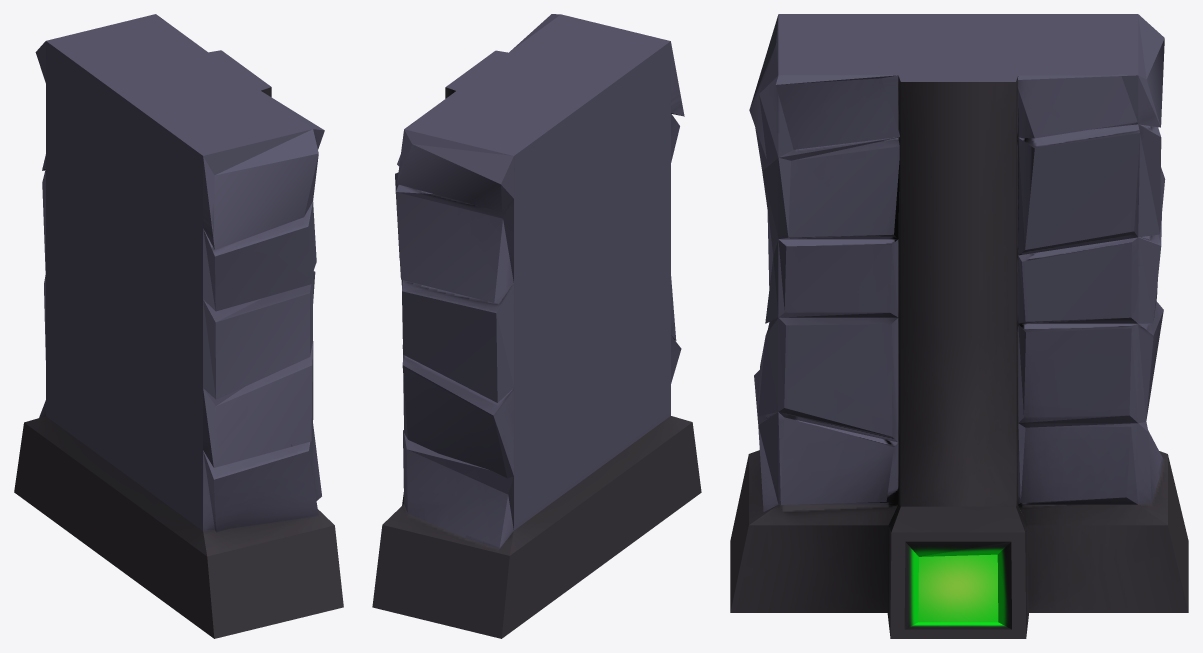
The model's file is gate_open.FBX.
The picture shows the model from 3 angles, left to right: view 1: azimuth 30°, elevation 25°; view 2: azimuth 150°, elevation 25°; view 3: azimuth 270°, elevation 25°; orthographic projection. The views are drawn at different scales.
Parts seen in each view (by area): view 1: Box001; view 2: Box001; view 3: Box001.
Part boxes in pixels (left/top/right/bottom): Box001: left=14, top=14, right=343, bottom=638; Box001: left=372, top=14, right=701, bottom=638; Box001: left=730, top=14, right=1188, bottom=638.
Bounding box in the file's own units: 1.2 × 3.04 × 2.37.
